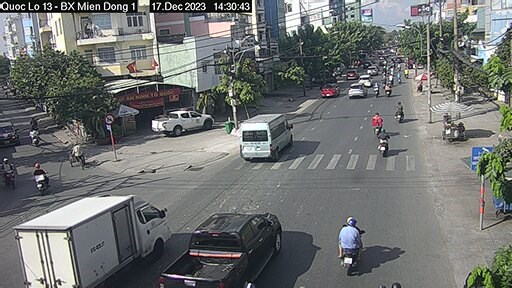car: (189, 211, 278, 286), (243, 109, 293, 162), (150, 107, 214, 136), (348, 83, 369, 98), (318, 82, 339, 96), (360, 75, 375, 86)
motorbike: (337, 224, 365, 267), (376, 131, 396, 155)
truck: (36, 197, 162, 281)
